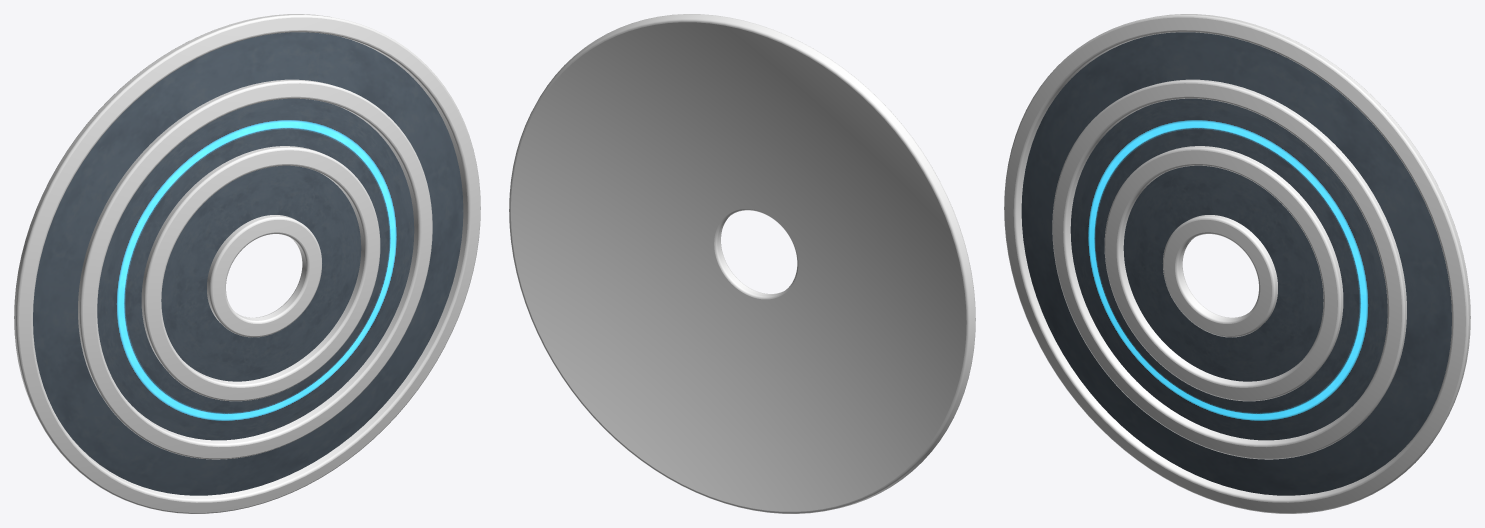
Rendered from badge.glb.
The picture shows the model from 3 angles, left to right: view 1: azimuth 30°, elevation 25°; view 2: azimuth 150°, elevation 25°; view 3: azimuth 330°, elevation 25°; orthographic projection.
Visible parts, largest first — view 1: Object_2; view 2: Object_2; view 3: Object_2.
Boxes of the visible parts, x1,y1,x2,y2 form: Object_2: (14,14,480,513); Object_2: (509,14,975,513); Object_2: (1004,14,1470,513).
Size of the model in its own units: 82.76 by 82.76 by 7.3.
1 material, 1 textured.
